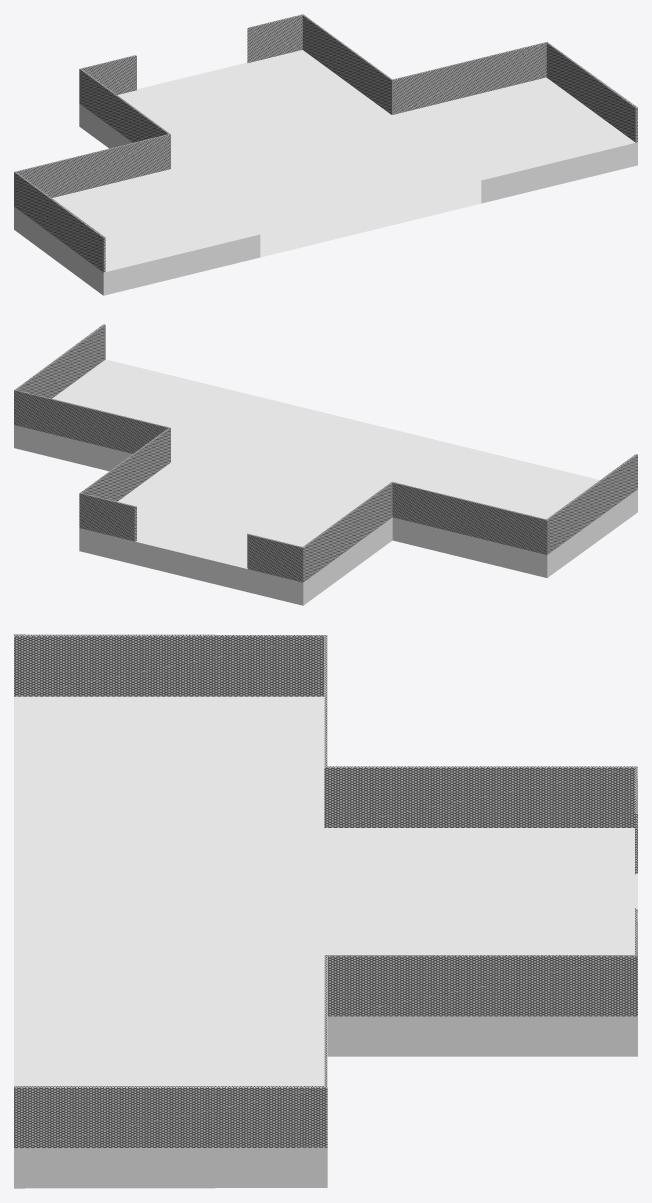
File: Thresher-Room-Walkway-Entrance.obj
3 renders of one model, top to bottom at view 1: azimuth 30°, elevation 25°; view 2: azimuth 150°, elevation 25°; view 3: azimuth 270°, elevation 25°, orthographic. The views are drawn at different scales.
Visible parts, largest first — view 1: Thresher-Room-Walkway-Entrance; view 2: Thresher-Room-Walkway-Entrance; view 3: Thresher-Room-Walkway-Entrance.
Part boxes in pixels (x1,y1,x2,y2): Thresher-Room-Walkway-Entrance: (14, 14, 637, 295); Thresher-Room-Walkway-Entrance: (14, 324, 637, 605); Thresher-Room-Walkway-Entrance: (14, 634, 637, 1188).
Size of the model in its own units: 24.2 by 2.5 by 14.07.
